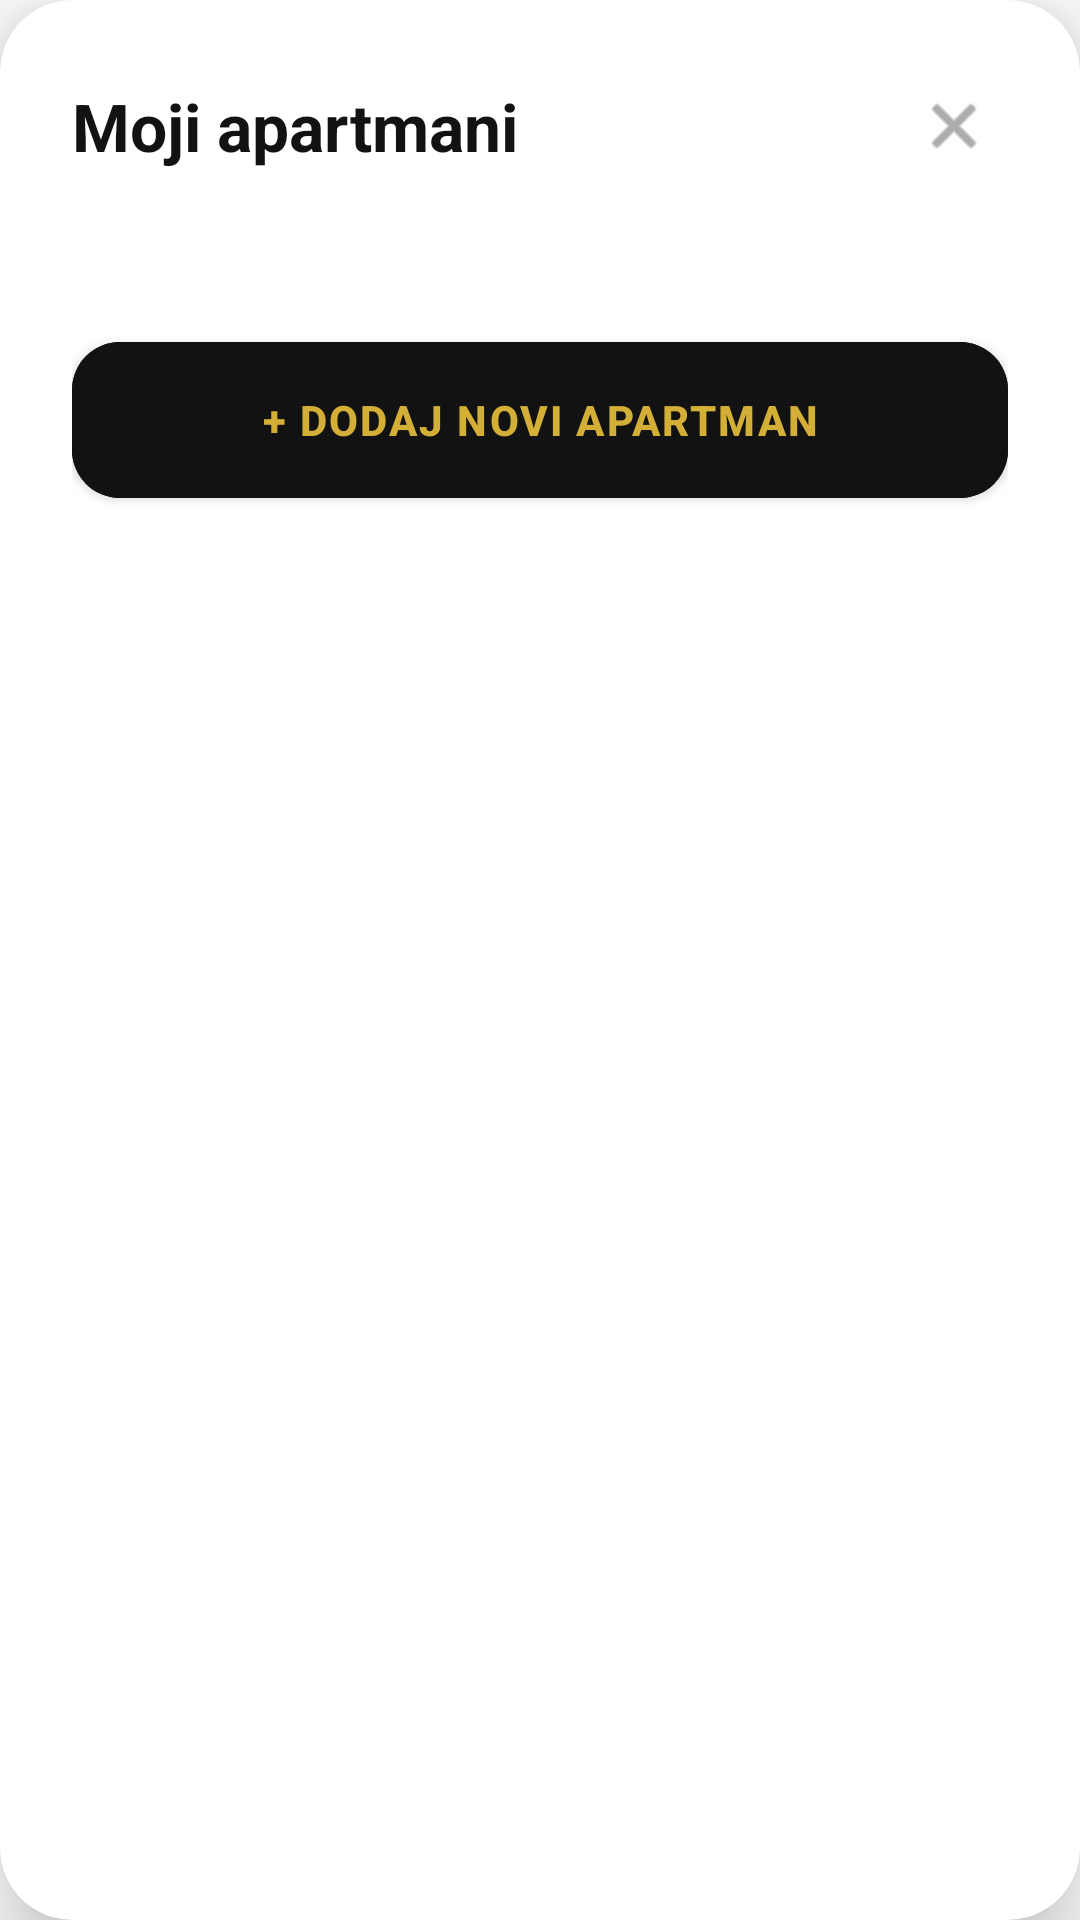

Icon click points for this 1080 × 1920 phone screenshot, format [x,y]:
close clear cancel: [954,126]
